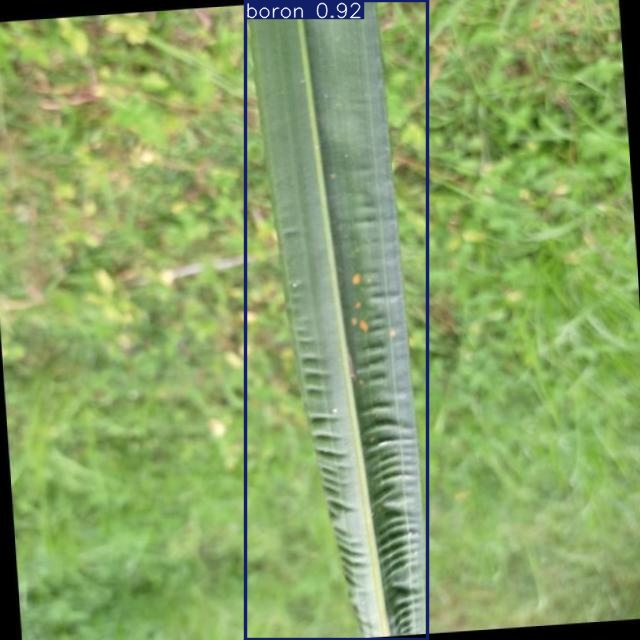nitrogen: (246, 1, 427, 640)
